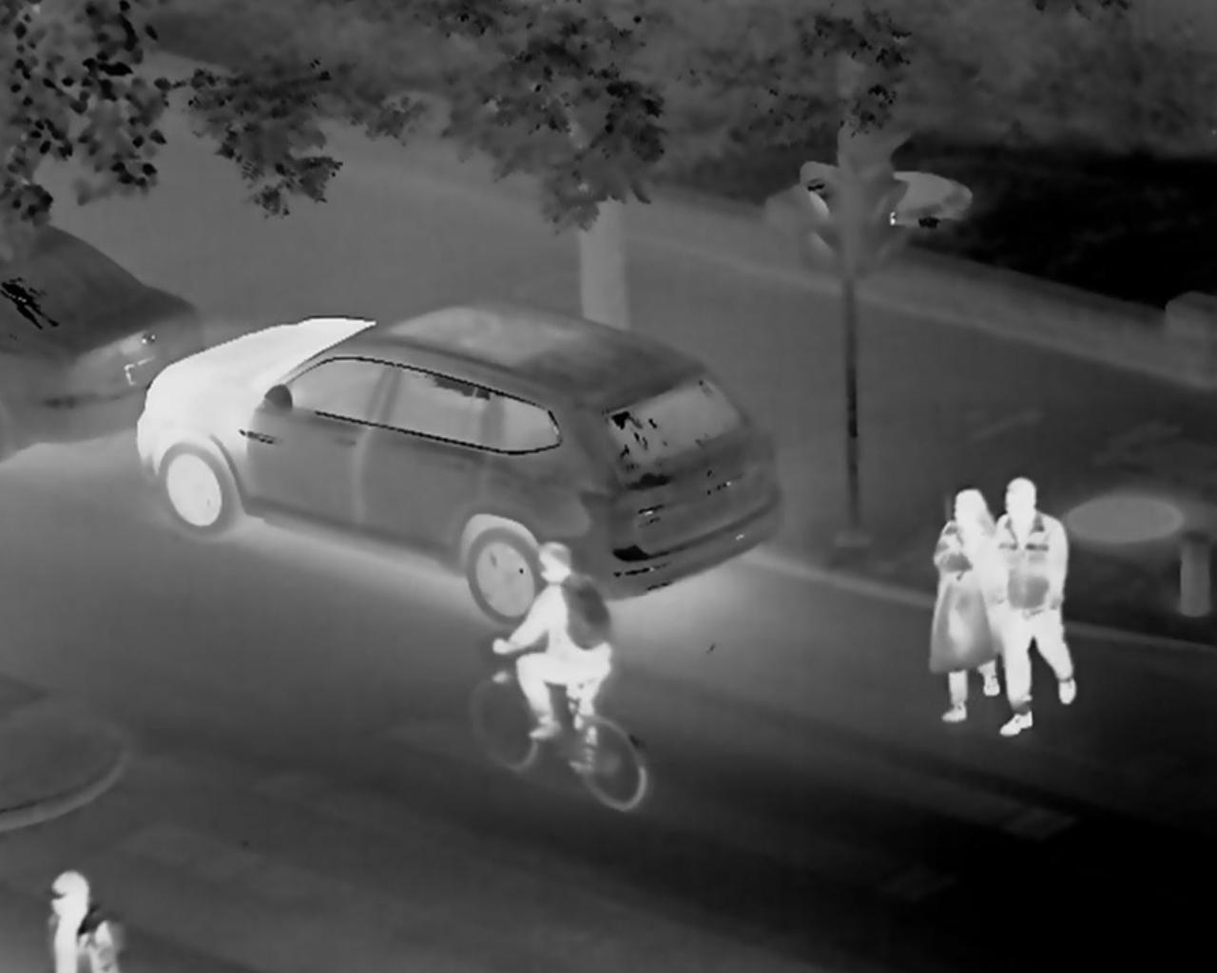person: (493, 534, 608, 769), (919, 473, 999, 735), (999, 482, 1077, 734), (45, 862, 126, 973)
